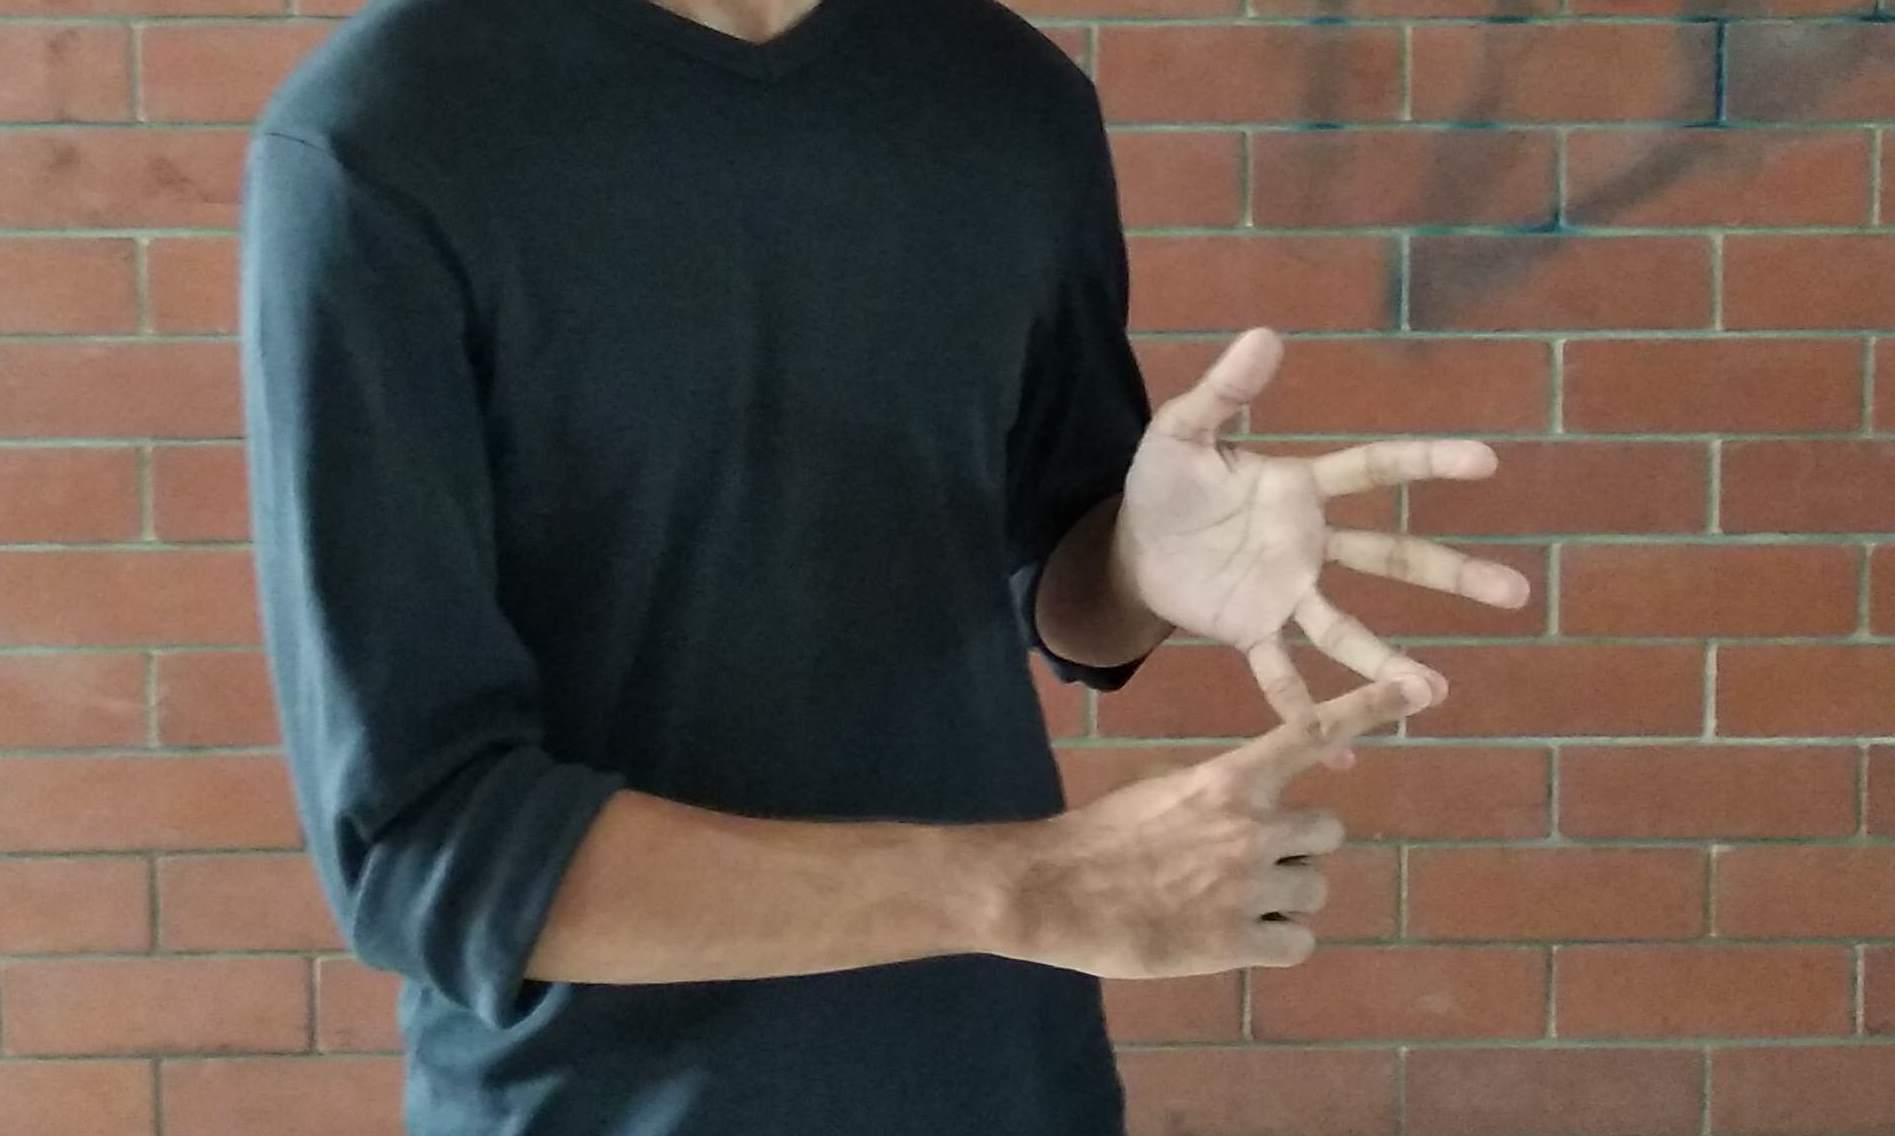e: (1089, 392, 1512, 979)
